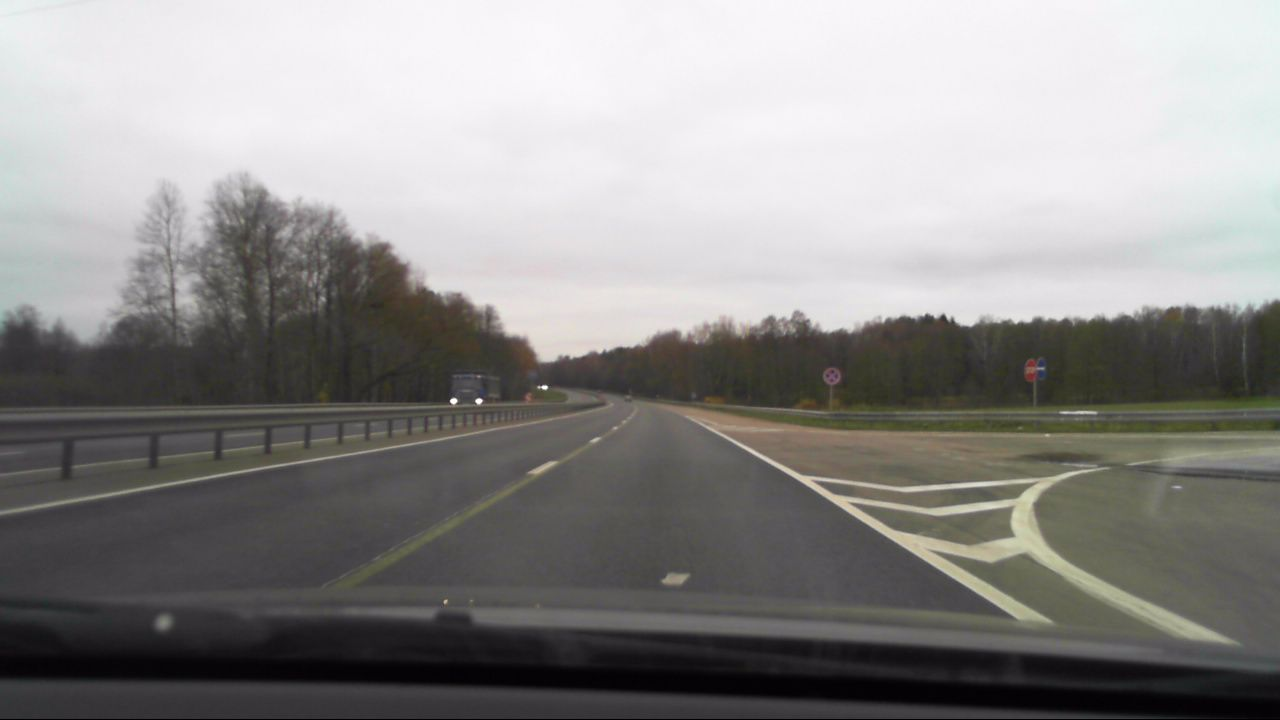No Parking: (822, 366, 843, 387)
